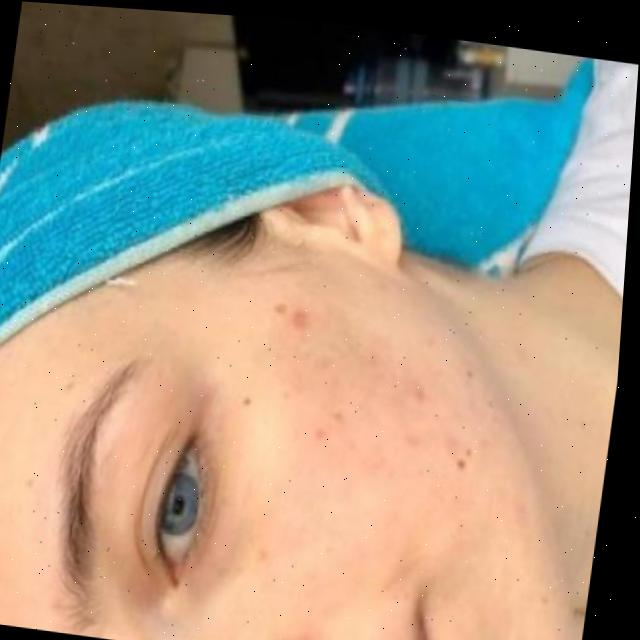Acne: (197, 263, 506, 520)
